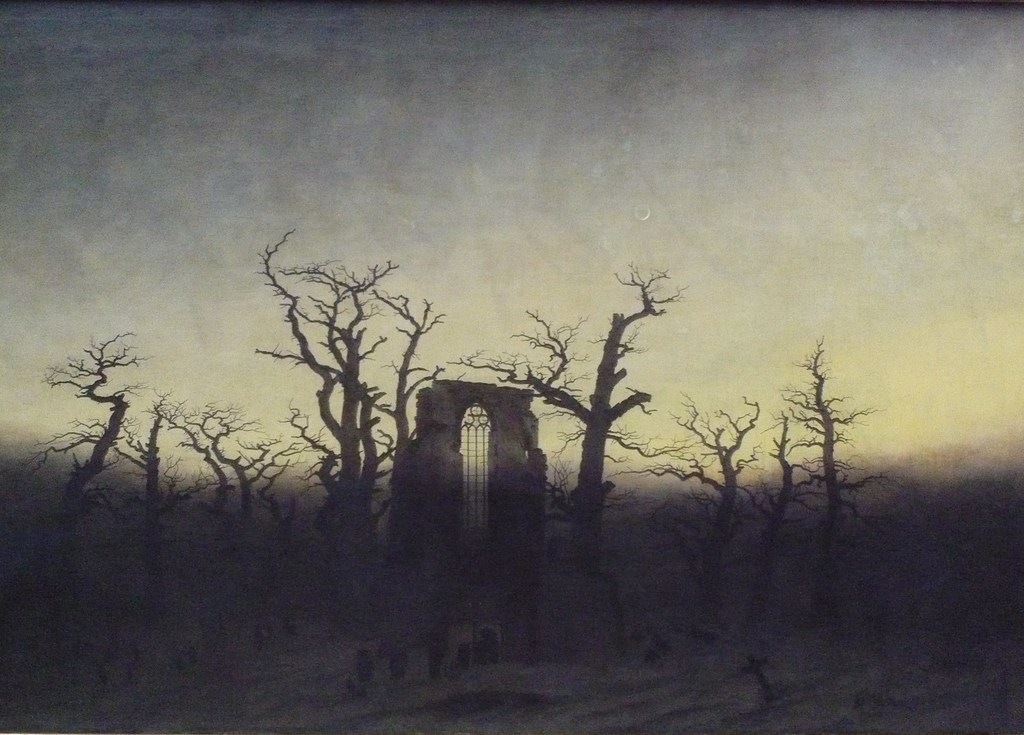Tree: (274, 240, 444, 632), (459, 263, 626, 617), (625, 386, 727, 671), (19, 323, 121, 586), (771, 320, 879, 532), (204, 398, 305, 613), (115, 384, 204, 605)
